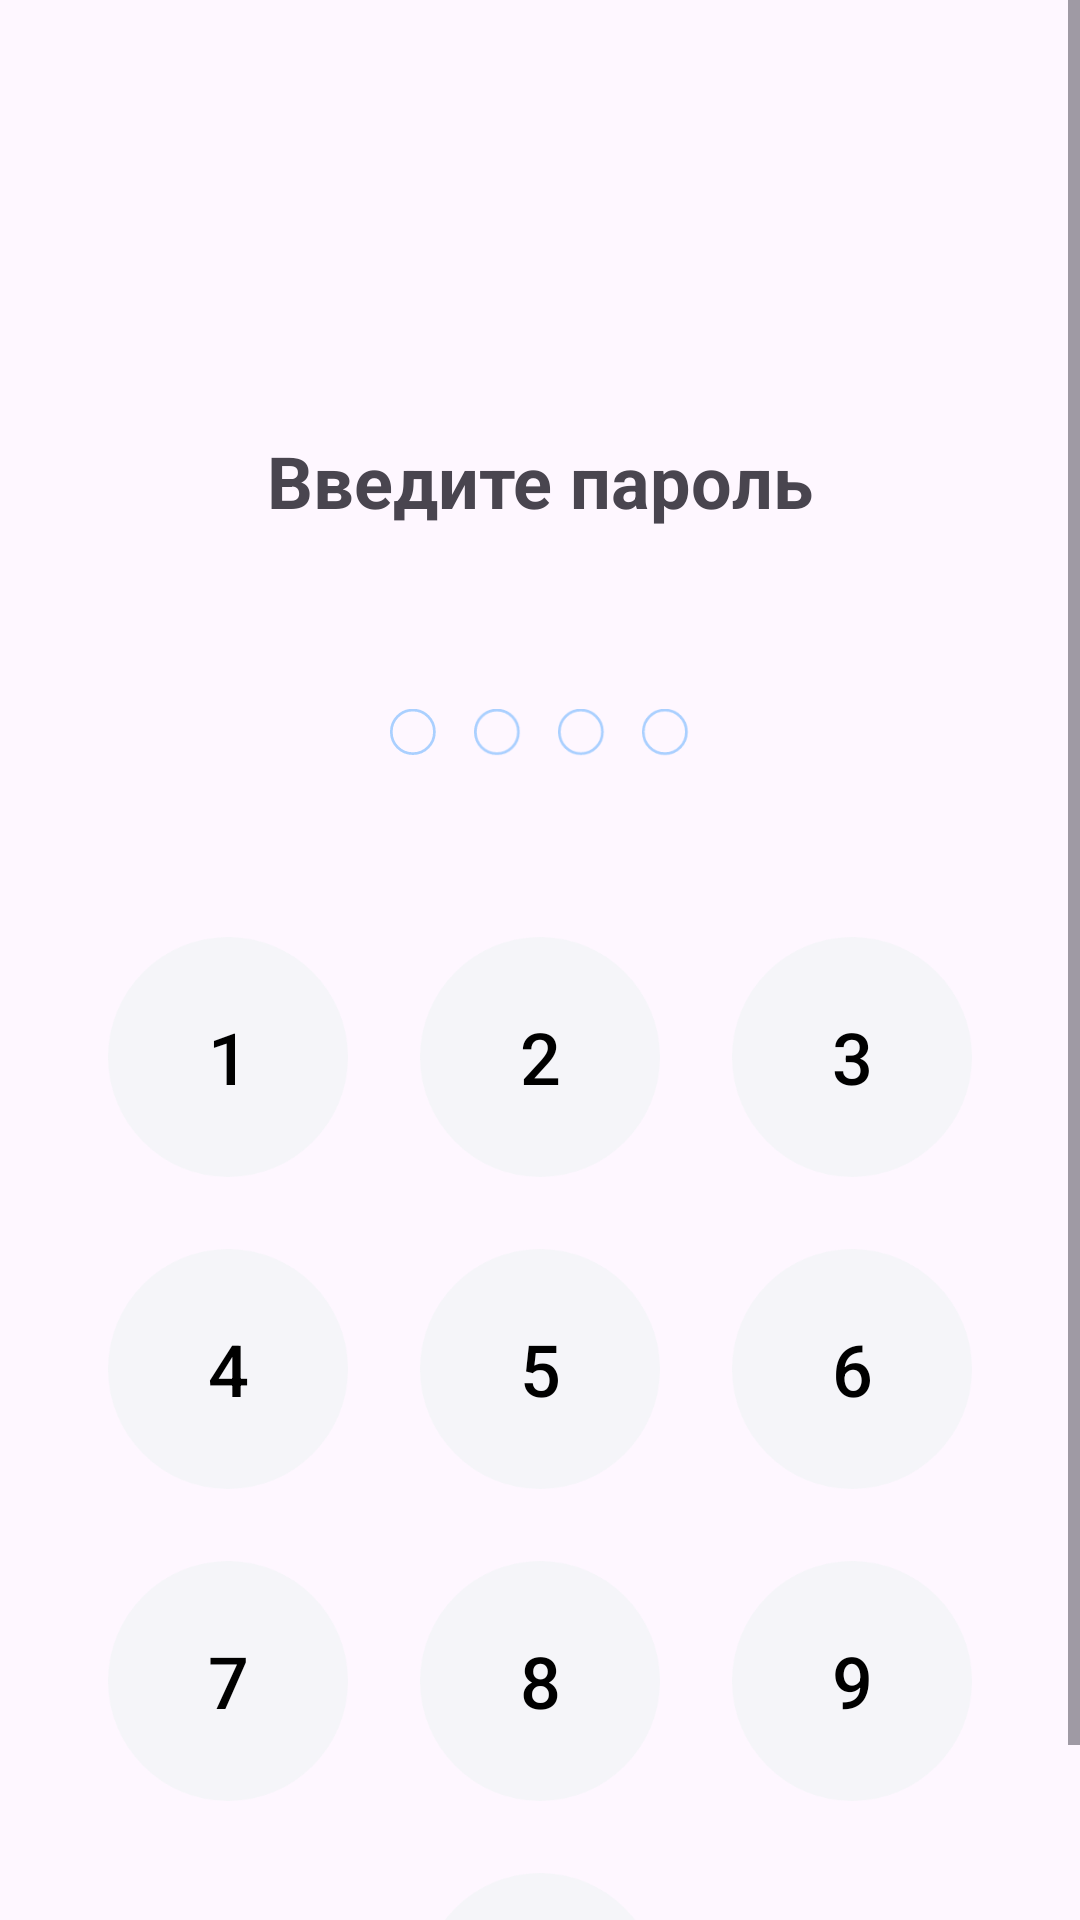

Locate icon controls on the screen. Image size 1080px x 1920px, boxes as (x1, y1, x2, y2).
circle: (390, 709, 436, 755), (474, 709, 520, 755), (558, 709, 604, 755), (642, 709, 688, 755)
